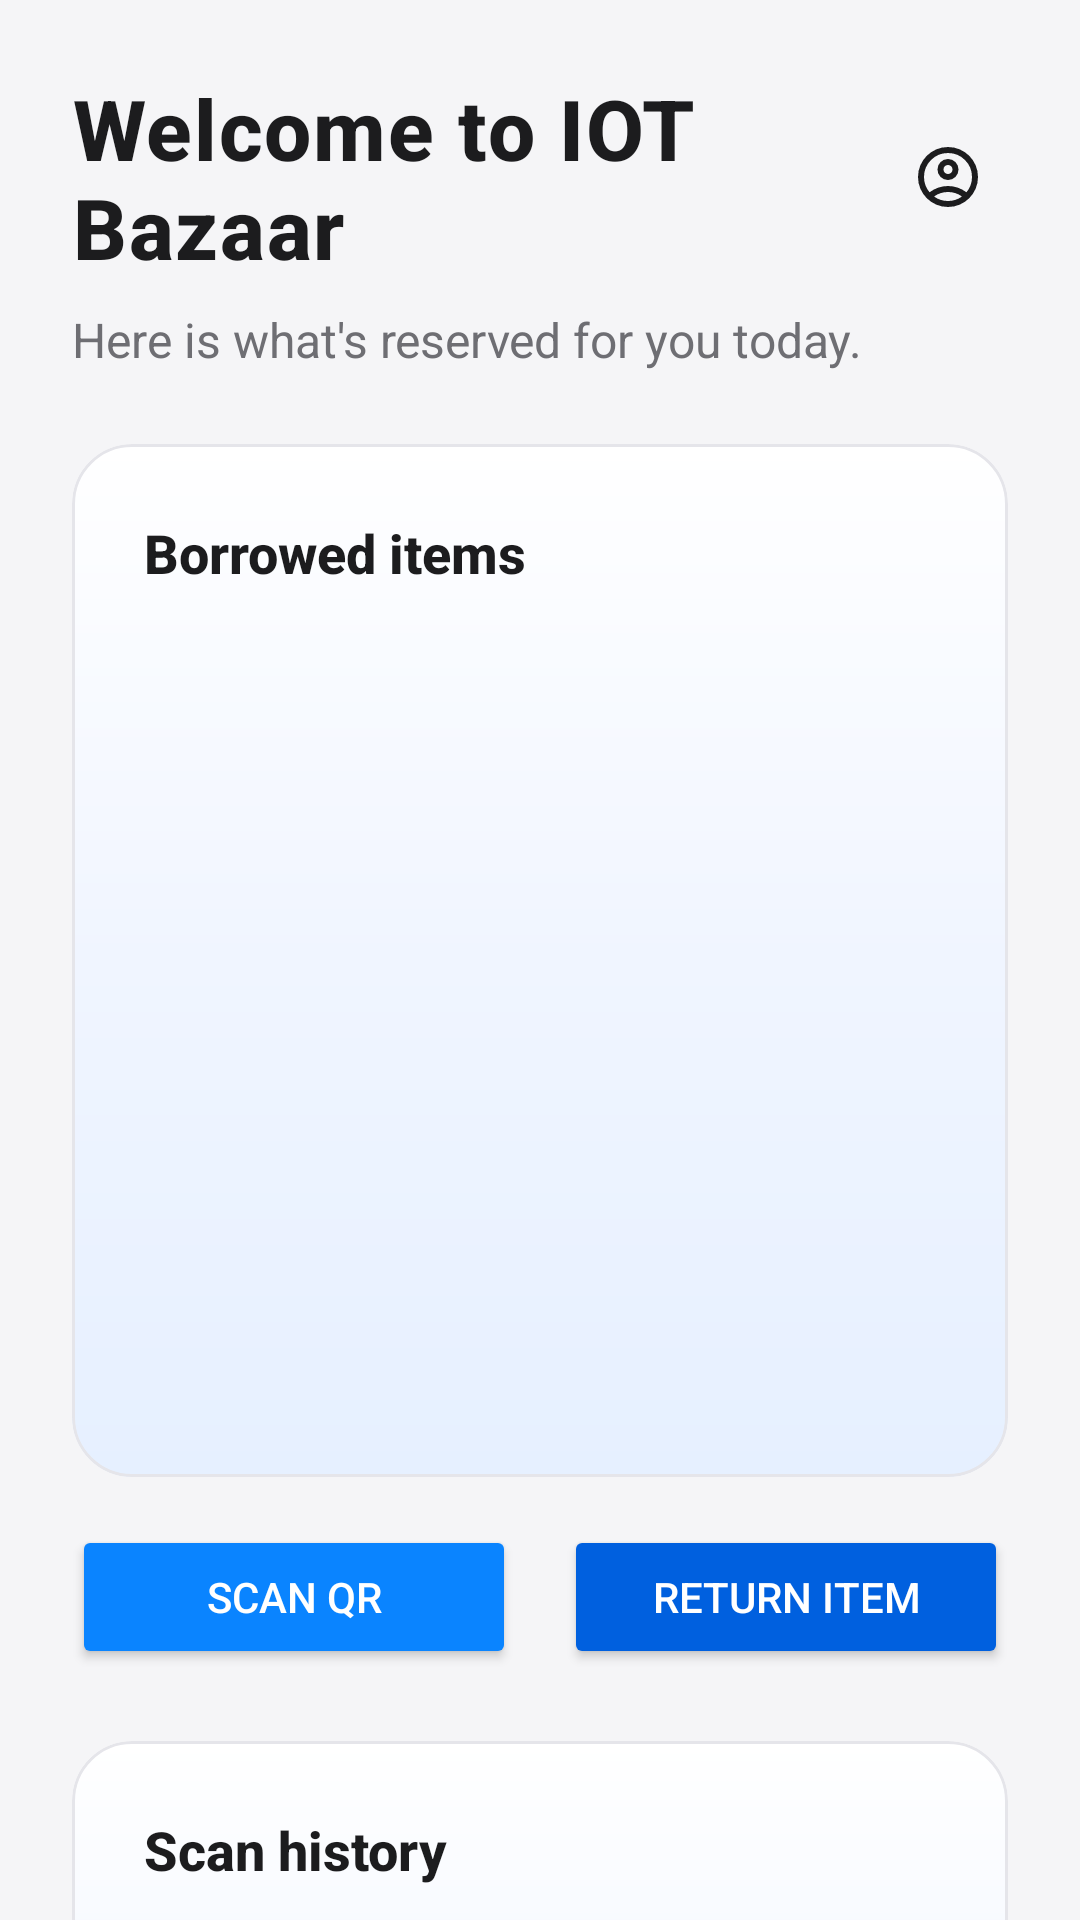

Locate icon controls on the screen. Image size 1080px x 1920px, boxes as (left=x1, top=y1, right=x2, bottom=y2).
Profile options: (left=918, top=147, right=978, bottom=207)
